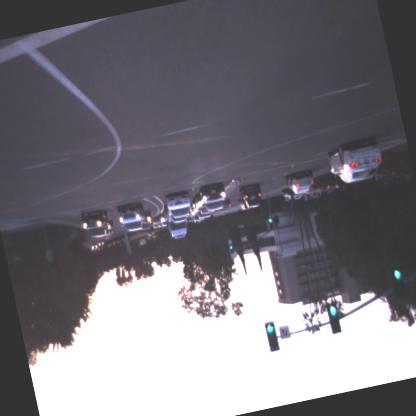trafficlight: (262, 319, 280, 352), (326, 302, 342, 334), (390, 264, 406, 295), (268, 216, 274, 229), (229, 244, 234, 253)
